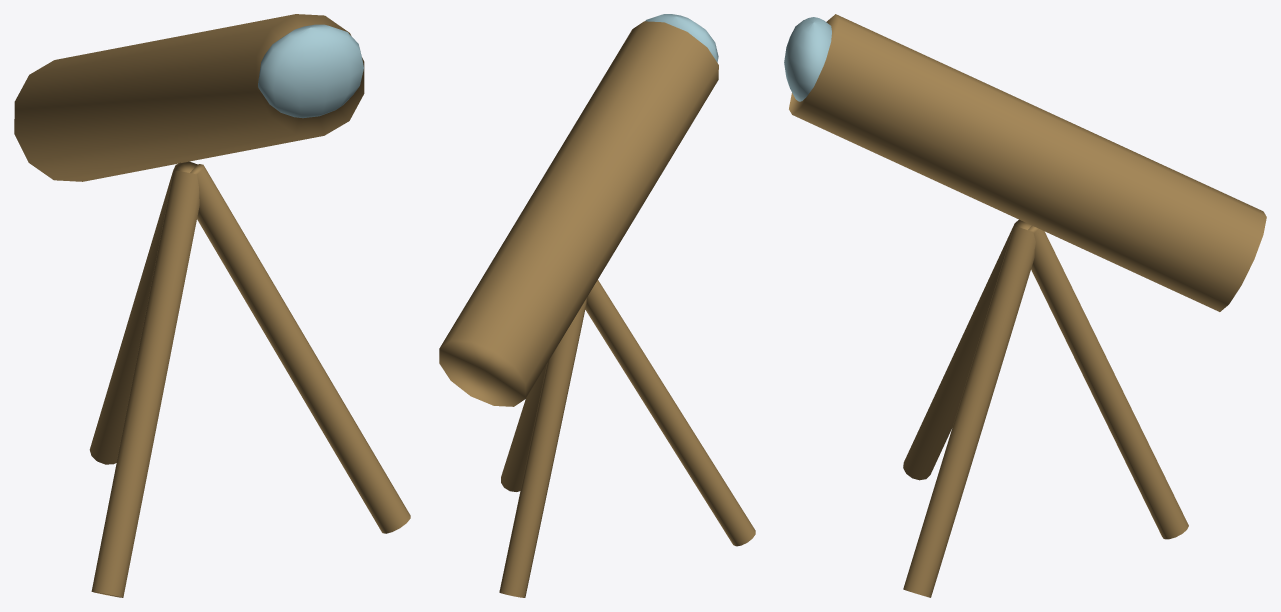
Rendered from telescope.glb.
3 renders of one model, left to right at view 1: azimuth 30°, elevation 25°; view 2: azimuth 150°, elevation 25°; view 3: azimuth 270°, elevation 25°, orthographic. The views are drawn at different scales.
Visible parts, largest first — view 1: tube, tripod (×3), lens; view 2: tube, tripod (×3), lens; view 3: tube, tripod (×3), lens.
Boxes of the visible parts, box(x1,y1,x2,y2) form: tube: box(14, 14, 364, 181); tripod (×3): box(89, 161, 410, 597); lens: box(258, 24, 363, 118); tube: box(439, 21, 718, 406); tripod (×3): box(499, 280, 755, 597); lens: box(645, 14, 718, 62); tube: box(789, 14, 1266, 311); tripod (×3): box(903, 219, 1188, 597); lens: box(784, 17, 831, 101).
Size of the model in its own units: 0.872 by 1.55 by 1.31.
